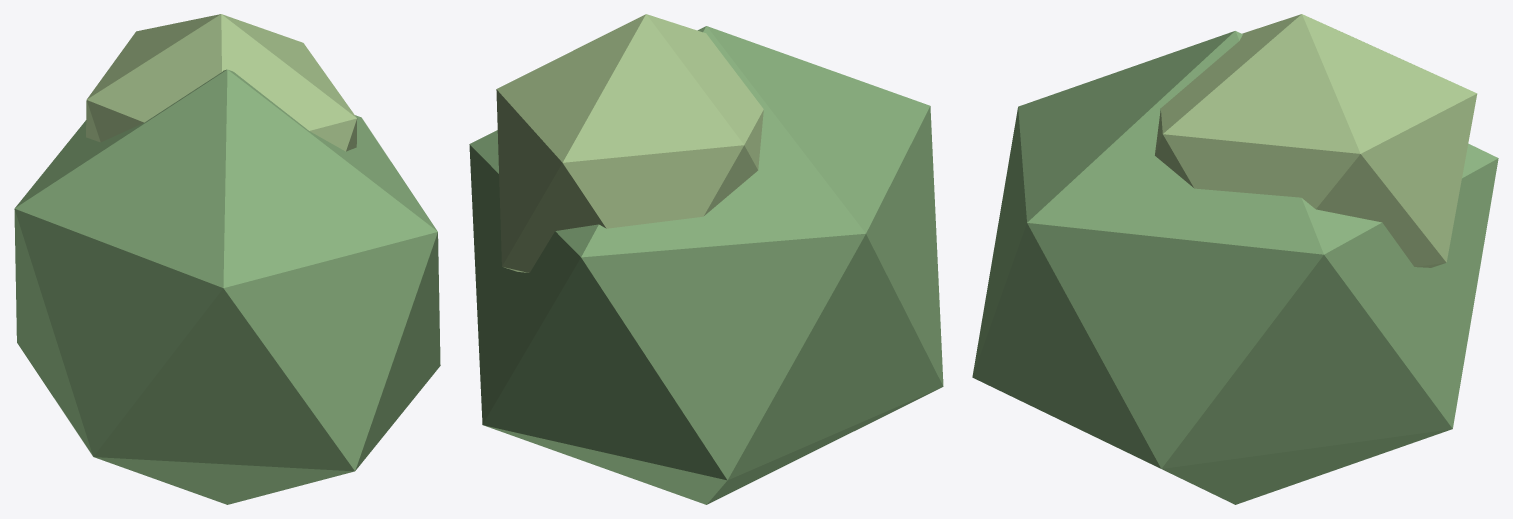
The model's file is side_forgotten_trial_wind_canopies.fbx.
3 renders of one model, left to right at view 1: azimuth 30°, elevation 25°; view 2: azimuth 150°, elevation 25°; view 3: azimuth 270°, elevation 25°, orthographic. The views are drawn at different scales.
Parts seen in each view (by area): view 1: chunk_side_forgotten_trial__tree_canopy_01, chunk_side_forgotten_trial__tree_canopy_02; view 2: chunk_side_forgotten_trial__tree_canopy_01, chunk_side_forgotten_trial__tree_canopy_02; view 3: chunk_side_forgotten_trial__tree_canopy_01, chunk_side_forgotten_trial__tree_canopy_02.
Part boxes in pixels (box(x1,y1,x2,y2)): chunk_side_forgotten_trial__tree_canopy_01: box(14, 69, 440, 504); chunk_side_forgotten_trial__tree_canopy_02: box(86, 14, 357, 151); chunk_side_forgotten_trial__tree_canopy_01: box(469, 26, 943, 504); chunk_side_forgotten_trial__tree_canopy_02: box(496, 14, 763, 272); chunk_side_forgotten_trial__tree_canopy_01: box(972, 31, 1498, 504); chunk_side_forgotten_trial__tree_canopy_02: box(1155, 14, 1477, 267).
Size of the model in its own units: 11.84 by 14.62 by 13.84.
